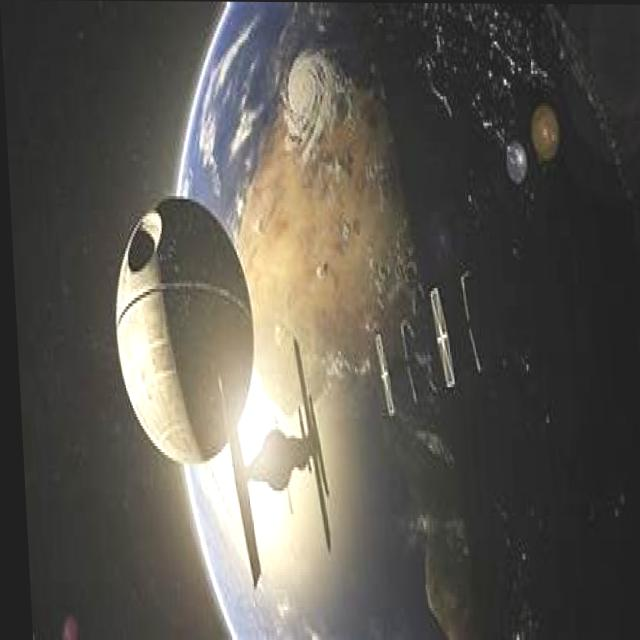deathStar: (105, 197, 252, 470)
